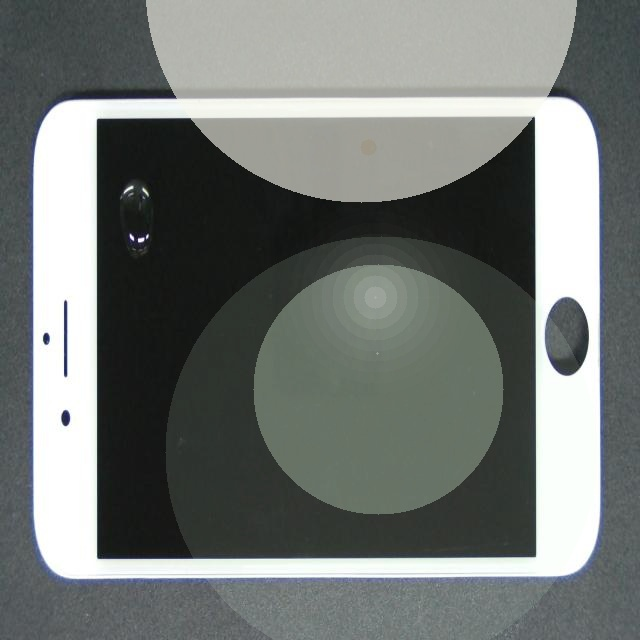oil: (81, 150, 232, 328)
